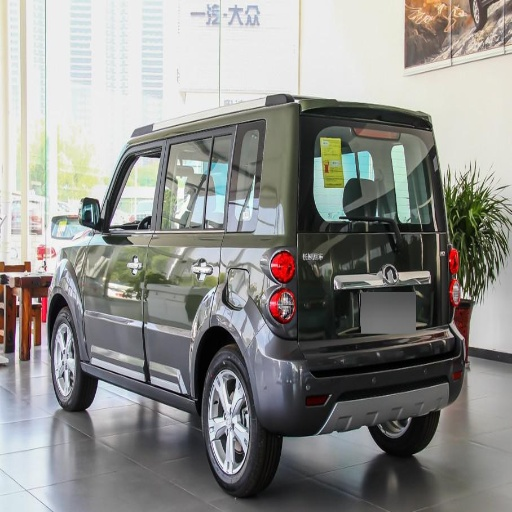back_bumper: (251, 328, 464, 432)
back_left_door: (145, 131, 232, 384)
trunk: (293, 227, 441, 358)
